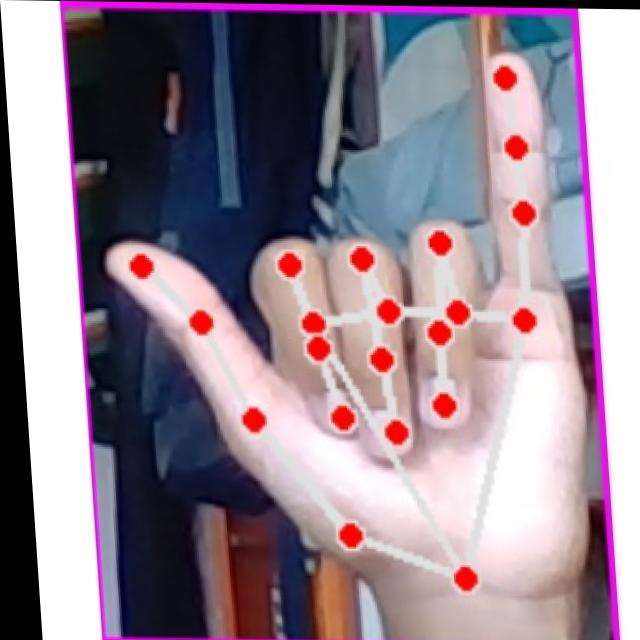Y: (96, 51, 585, 615)
